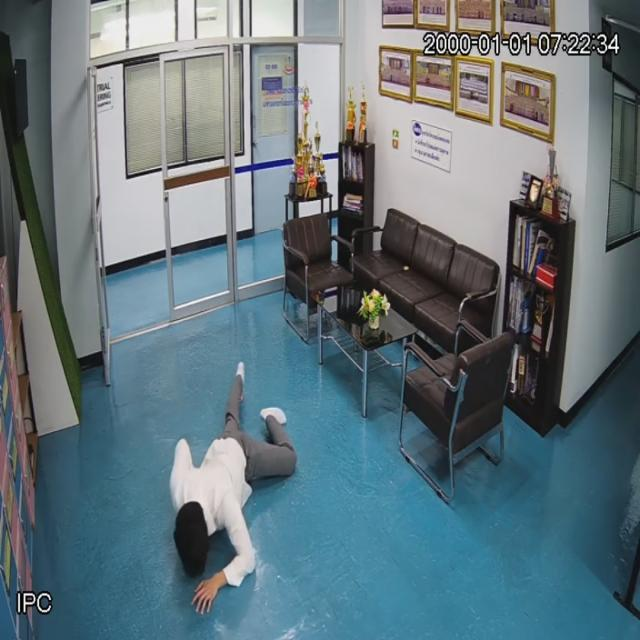normal: (164, 354, 298, 618)
